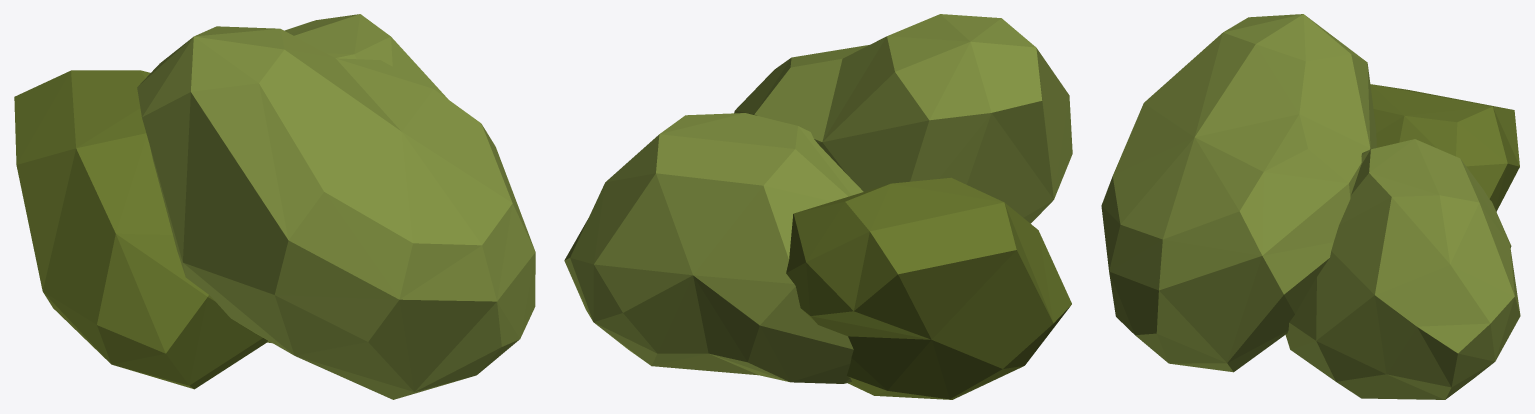
Rendered from EA03_Nature_Bush_03c.glb.
The picture shows the model from 3 angles, left to right: view 1: azimuth 30°, elevation 25°; view 2: azimuth 150°, elevation 25°; view 3: azimuth 270°, elevation 25°; orthographic projection. The views are drawn at different scales.
Parts seen in each view (by area): view 1: EA03_Nature_Bush_03c; view 2: EA03_Nature_Bush_03c; view 3: EA03_Nature_Bush_03c.
Boxes of the visible parts, box(x1,y1,x2,y2) form: EA03_Nature_Bush_03c: box(14, 14, 535, 399); EA03_Nature_Bush_03c: box(564, 14, 1072, 399); EA03_Nature_Bush_03c: box(1101, 14, 1520, 399).
Size of the model in its own units: 1.91 by 1.43 by 1.83.
1 material, 1 textured.
